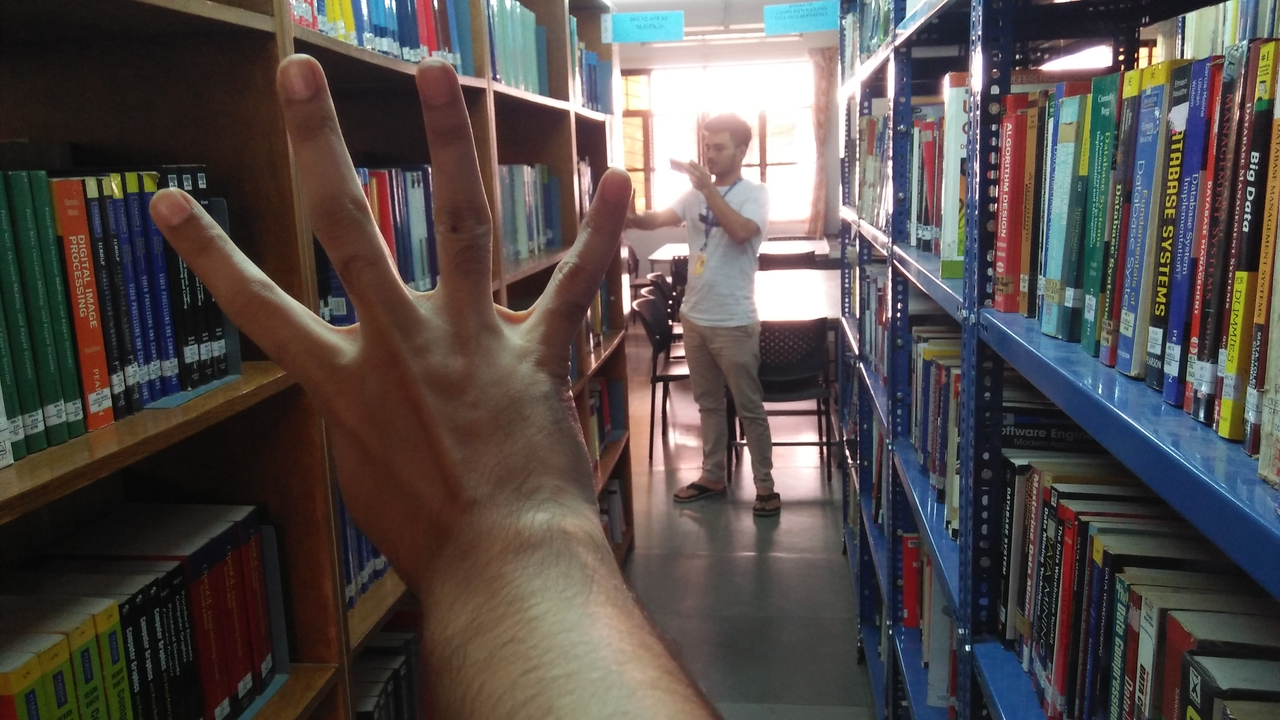fingertip: (266, 46, 324, 102), (140, 182, 198, 234), (588, 158, 638, 204), (410, 54, 460, 98)
